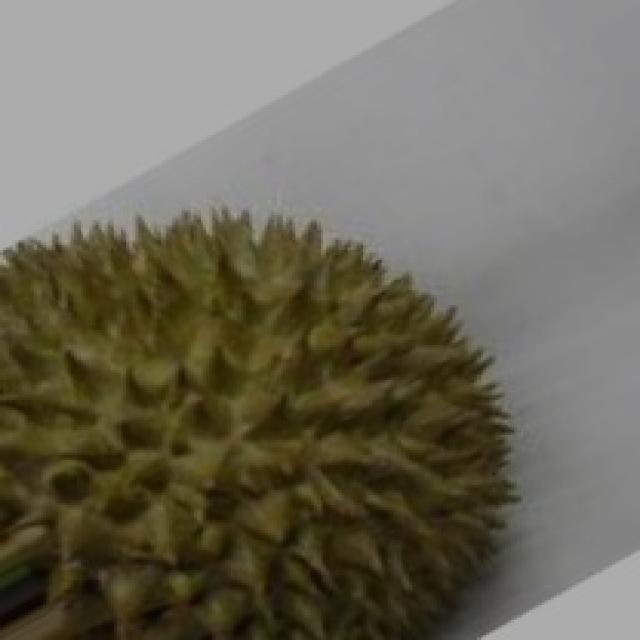fruit: (0, 198, 329, 638), (225, 225, 563, 640)
